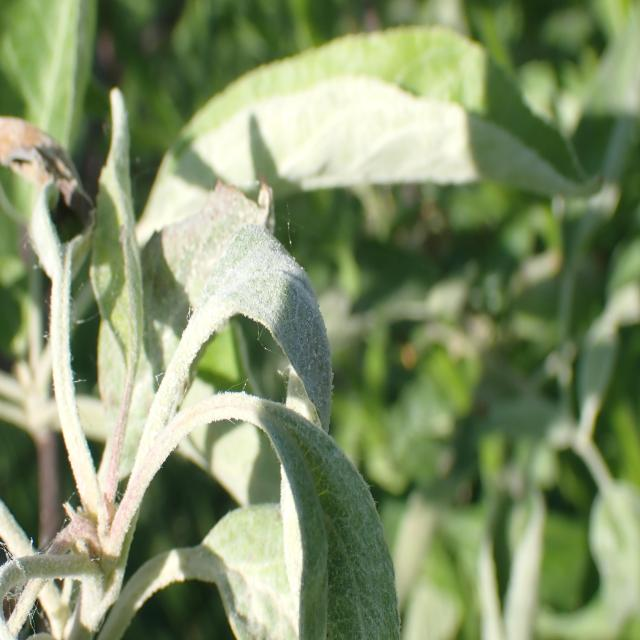Powdery_mildew: (156, 136, 331, 419), (216, 374, 402, 640), (80, 68, 154, 460), (23, 179, 94, 525)
